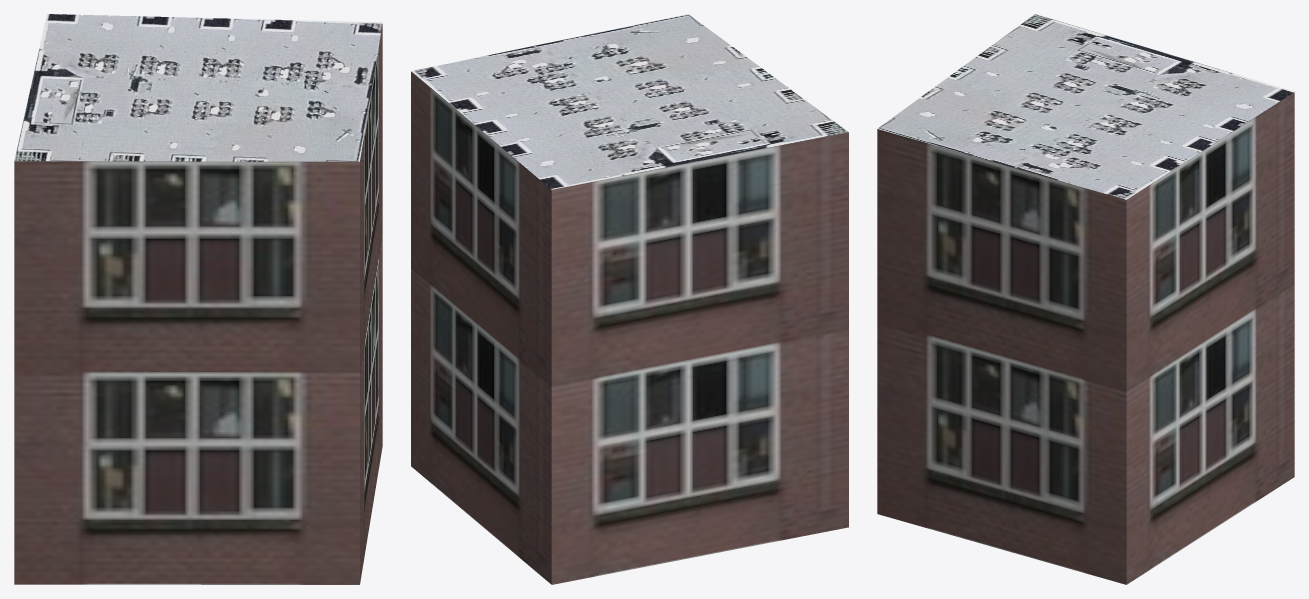
Rendered from ResTex__5140.fbx.
3 renders of one model, left to right at view 1: azimuth 30°, elevation 25°; view 2: azimuth 150°, elevation 25°; view 3: azimuth 270°, elevation 25°, orthographic. The views are drawn at different scales.
Visible parts, largest first — view 1: CityEngineMaterial_12_m, CityEngineMaterial_8_m; view 2: CityEngineMaterial_12_m, CityEngineMaterial_8_m; view 3: CityEngineMaterial_12_m, CityEngineMaterial_8_m.
Boxes of the visible parts, x1,y1,x2,y2 form: CityEngineMaterial_12_m: [14, 24, 382, 584]; CityEngineMaterial_8_m: [14, 14, 382, 161]; CityEngineMaterial_12_m: [411, 71, 848, 584]; CityEngineMaterial_8_m: [411, 14, 848, 189]; CityEngineMaterial_12_m: [877, 92, 1294, 584]; CityEngineMaterial_8_m: [877, 14, 1294, 199].
Bounding box in the file's own units: 6.21 × 6 × 5.9.
2 materials, 2 textured.
